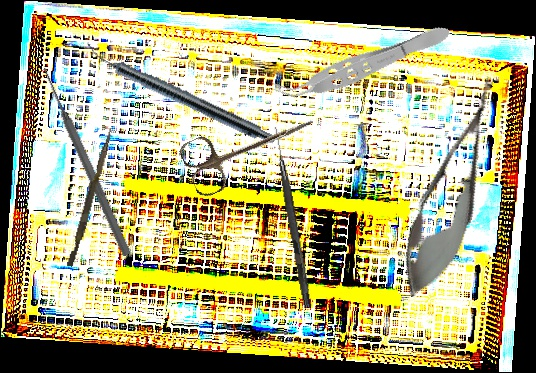Handpiece: (79, 41, 281, 148)
Hook Surgical: (269, 126, 314, 308)
Iris Scissors: (177, 92, 324, 200)
Micro Scissor: (387, 68, 518, 307)
Pusher: (38, 65, 134, 258), (66, 126, 114, 268)
Tissue Forceps: (270, 16, 455, 112)
